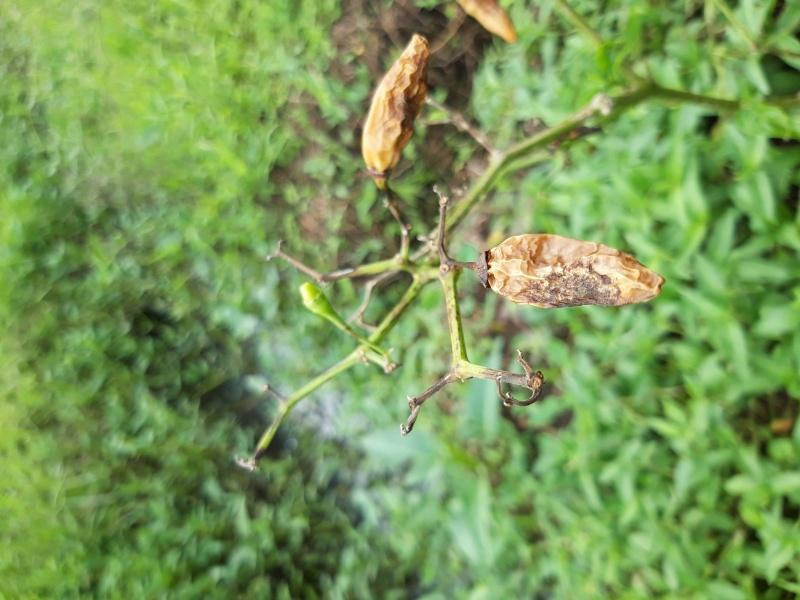antraknosa: (484, 234, 665, 309), (361, 33, 429, 173)
